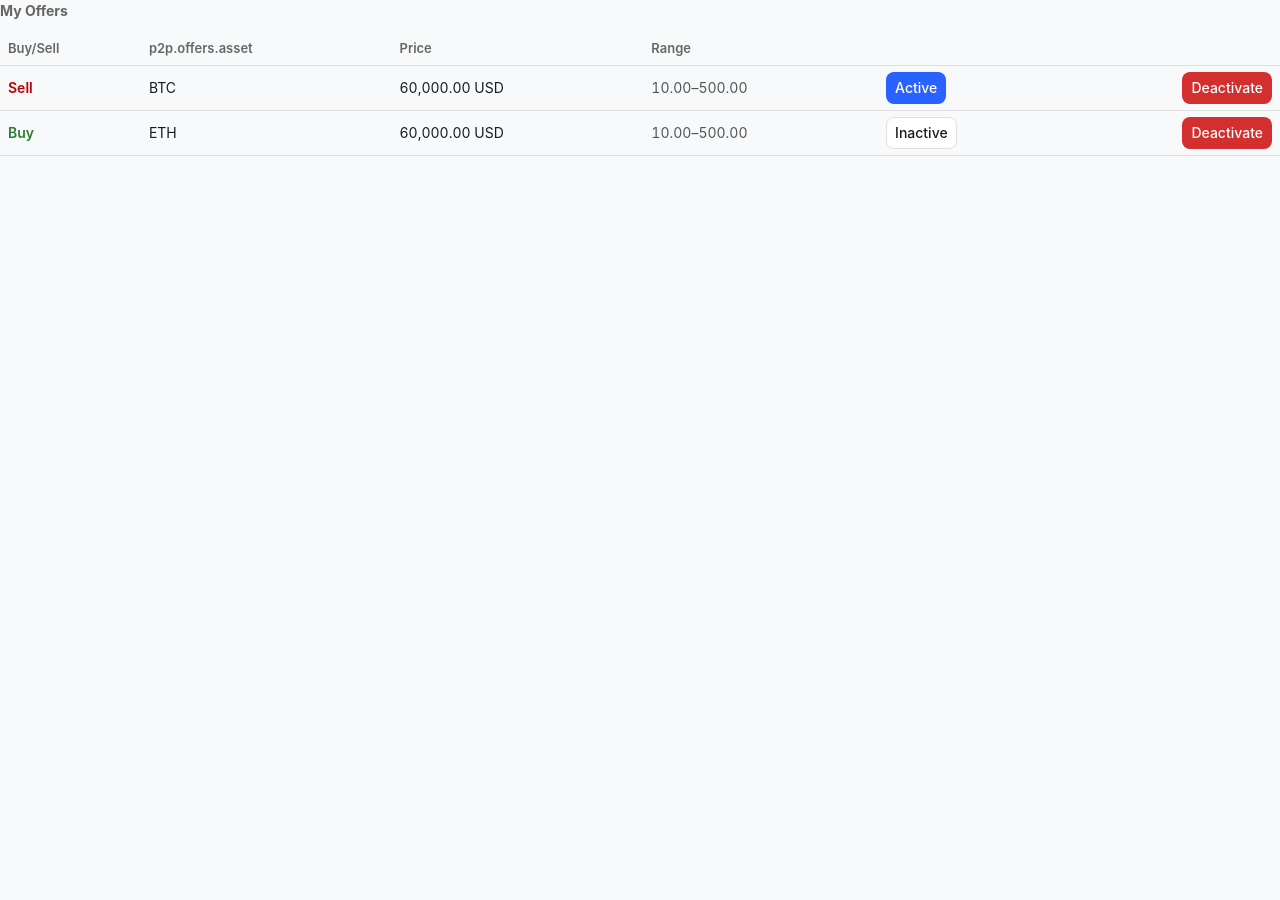
MyOffersView — deactivate Dialog flow › clicking deactivate opens a confirm Dialog
Click the button "Deactivate" in the row of "BTC".
click(1227, 88)  # box x1=1182 y1=72 x2=1272 y2=104
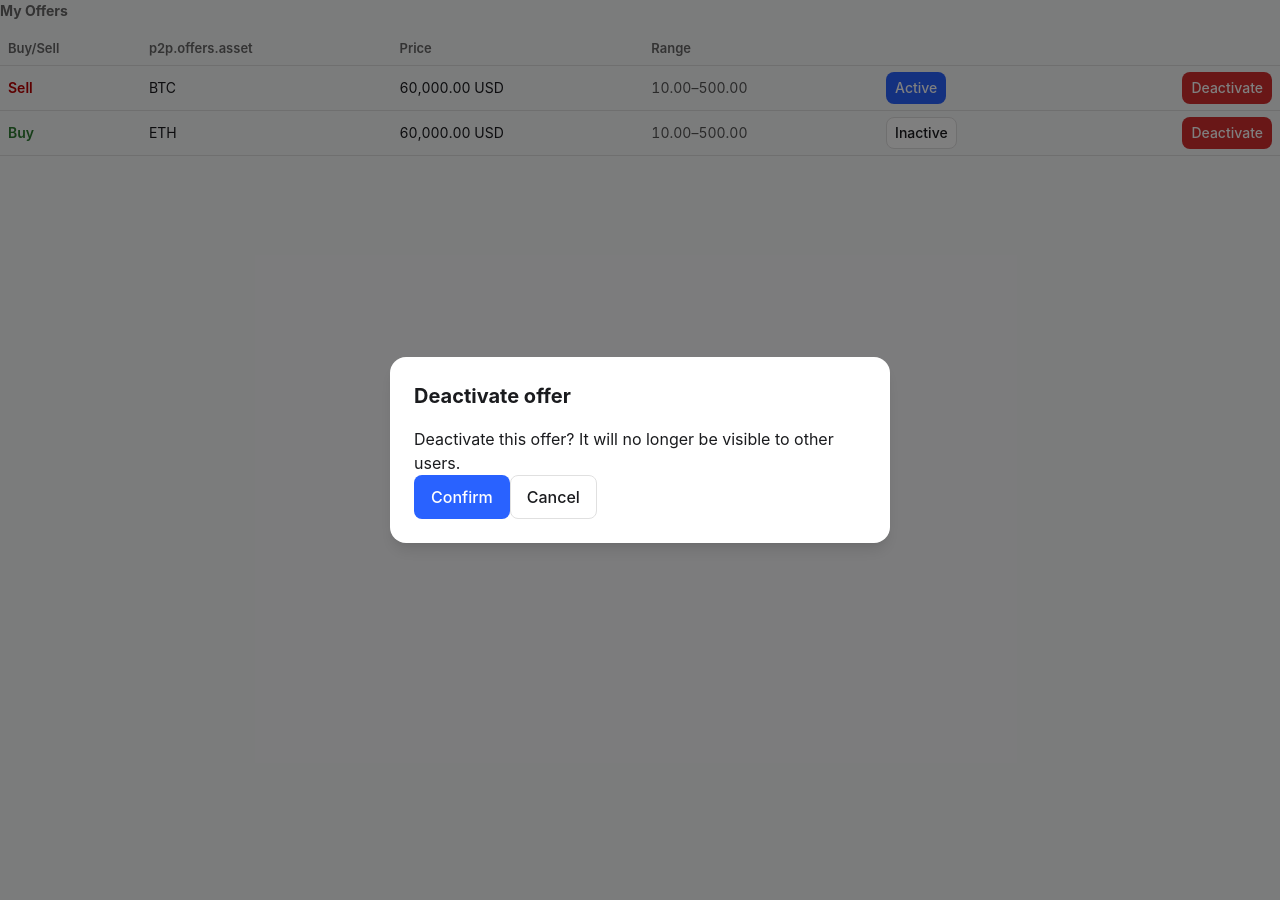
Expected: the dialog is shown, x1=390 y1=357 x2=890 y2=543
Expected: the text "Deactivate this offer?" is shown, x1=414 y1=429 x2=834 y2=473
